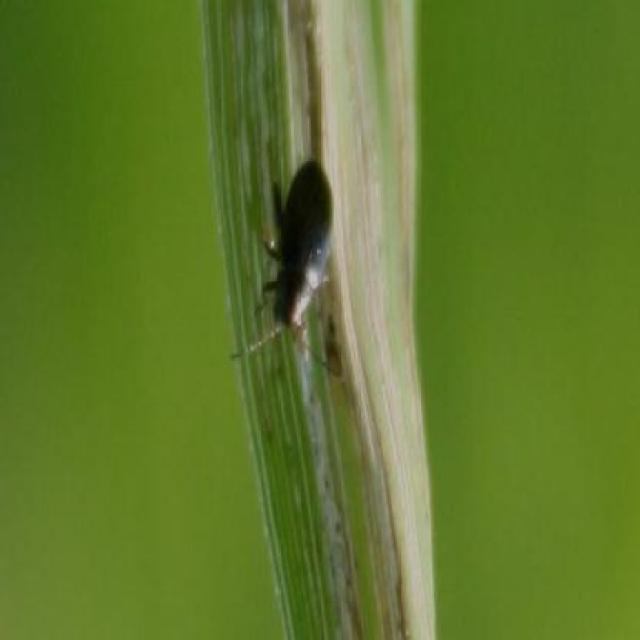rice-bug: (255, 161, 337, 337)
